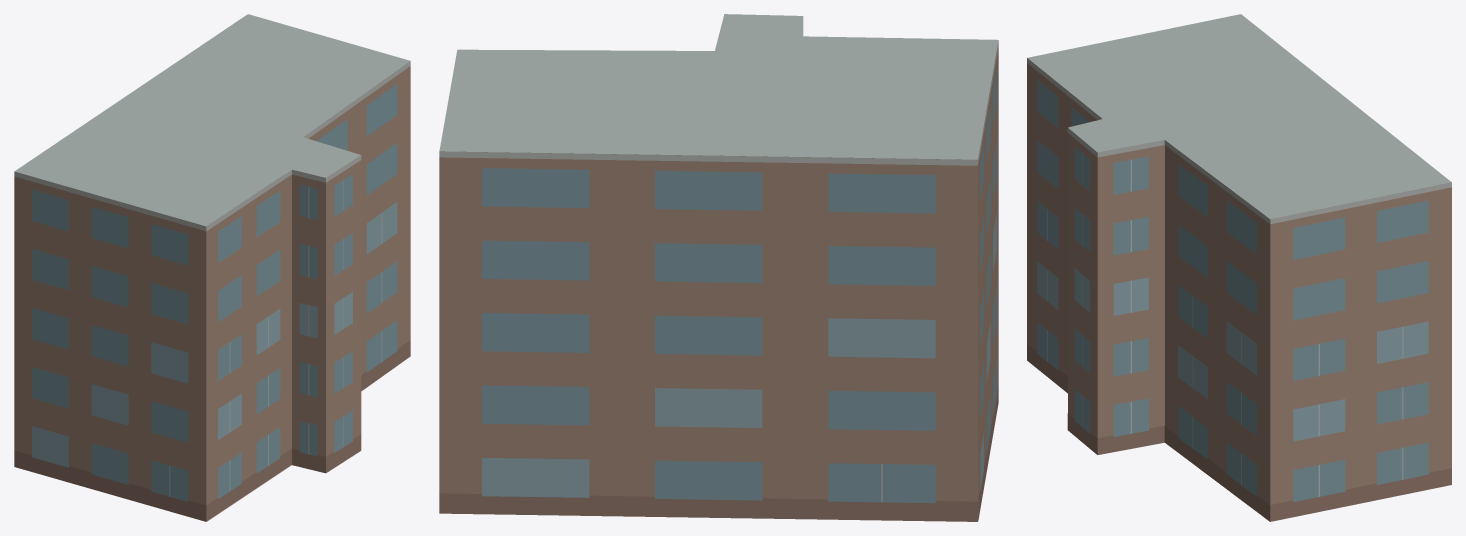
File: survey-upis-32938651.glb
The picture shows the model from 3 angles, left to right: view 1: azimuth 30°, elevation 25°; view 2: azimuth 150°, elevation 25°; view 3: azimuth 270°, elevation 25°; orthographic projection. The views are drawn at different scales.
Parts seen in each view (by area): view 1: survey-upis-32938651.tmp; view 2: survey-upis-32938651.tmp; view 3: survey-upis-32938651.tmp.
Boxes of the visible parts, x1,y1,x2,y2 form: survey-upis-32938651.tmp: [14, 14, 410, 521]; survey-upis-32938651.tmp: [439, 14, 998, 521]; survey-upis-32938651.tmp: [1027, 14, 1451, 521].
Bounding box in the file's own units: 21.24 × 14.6 × 18.58.
